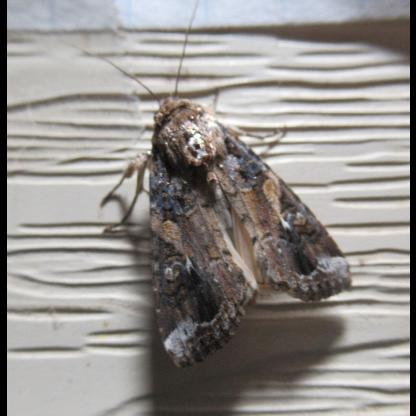Fall Armyworm Moth: (77, 0, 356, 372)
